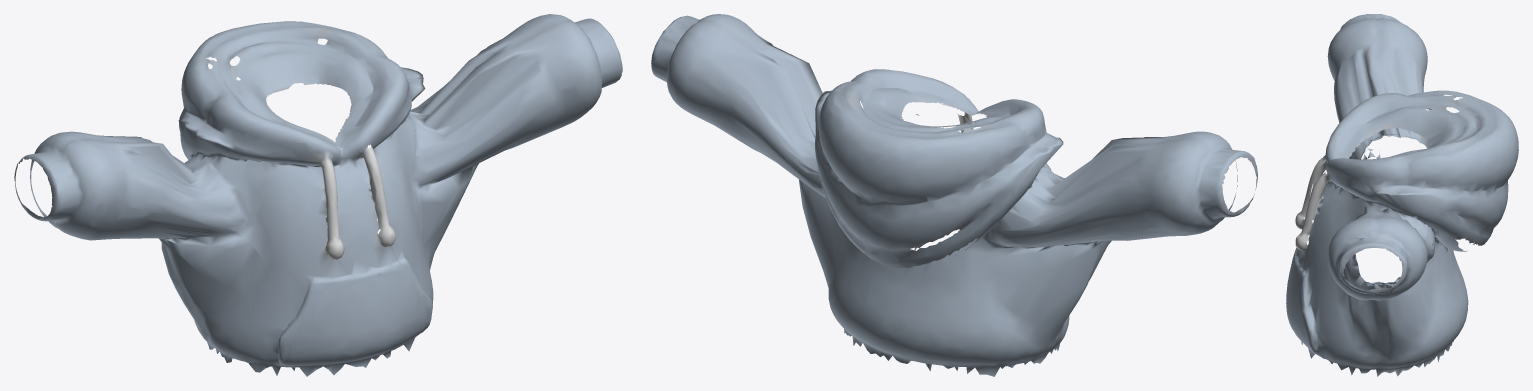
The model's file is hoodie.glb.
The picture shows the model from 3 angles, left to right: view 1: azimuth 30°, elevation 25°; view 2: azimuth 150°, elevation 25°; view 3: azimuth 270°, elevation 25°; orthographic projection. The views are drawn at different scales.
Parts seen in each view (by area): view 1: cloth; view 2: cloth; view 3: cloth.
Boxes of the visible parts, left/top/right/bottom form: cloth: left=14, top=14, right=622, bottom=376; cloth: left=651, top=14, right=1257, bottom=376; cloth: left=1286, top=14, right=1518, bottom=376.
Size of the model in its own units: 1.26 by 0.5413 by 0.5226.
